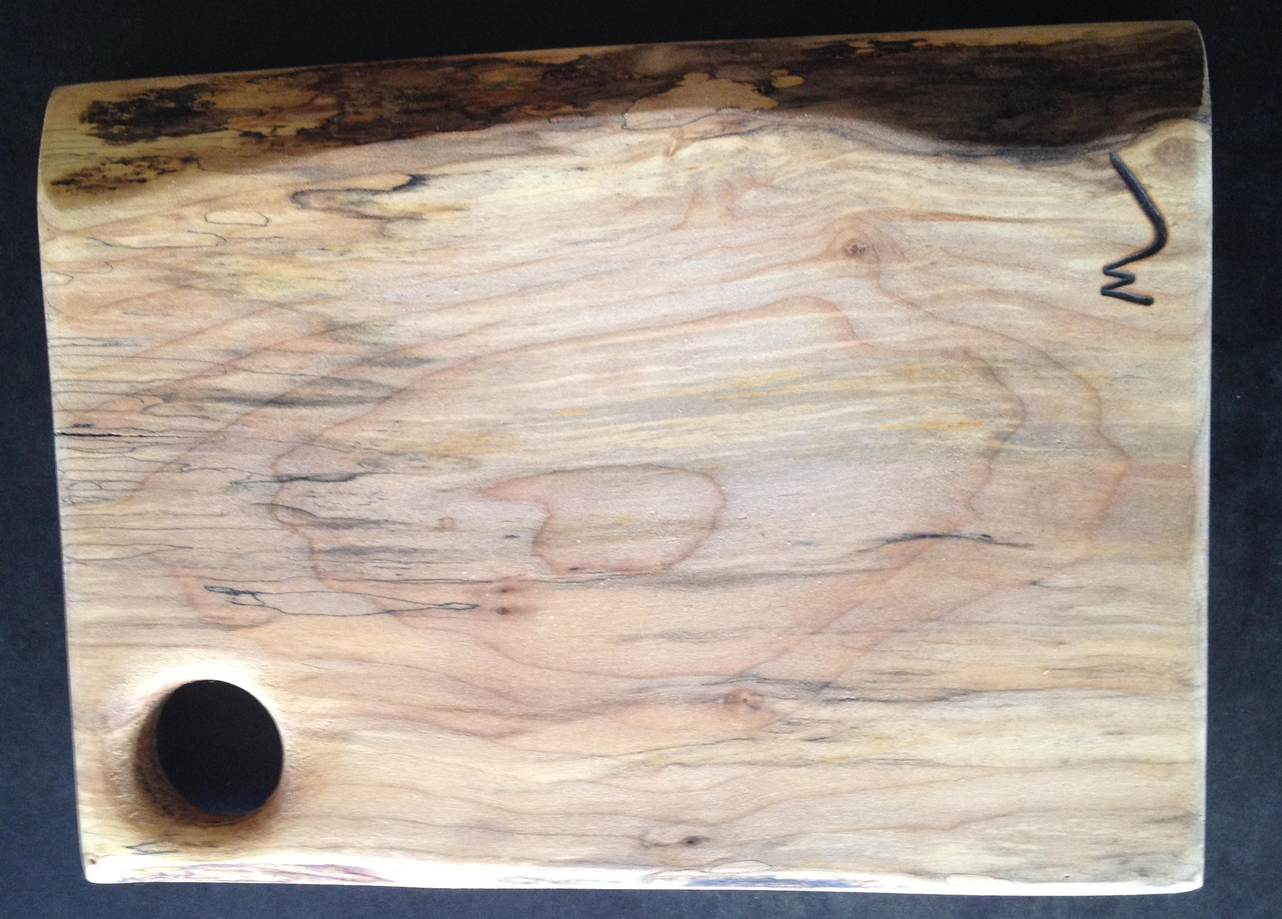gloved_hand: (47, 12, 1255, 893)
